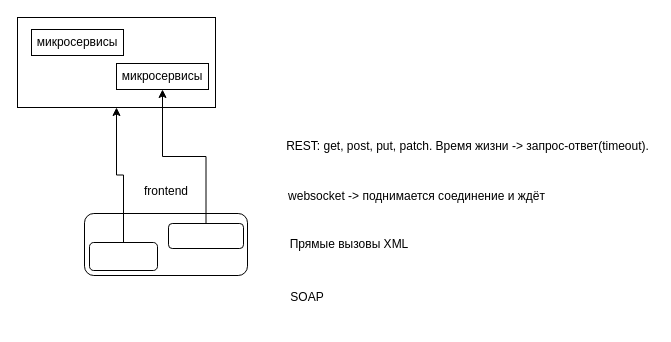
This 671x342 diagram has some shape labels left out. The centre of each missing label's shape, as x and y in pixels:
microfront 1: the point at 206,235
microfront 2: the point at 123,256
